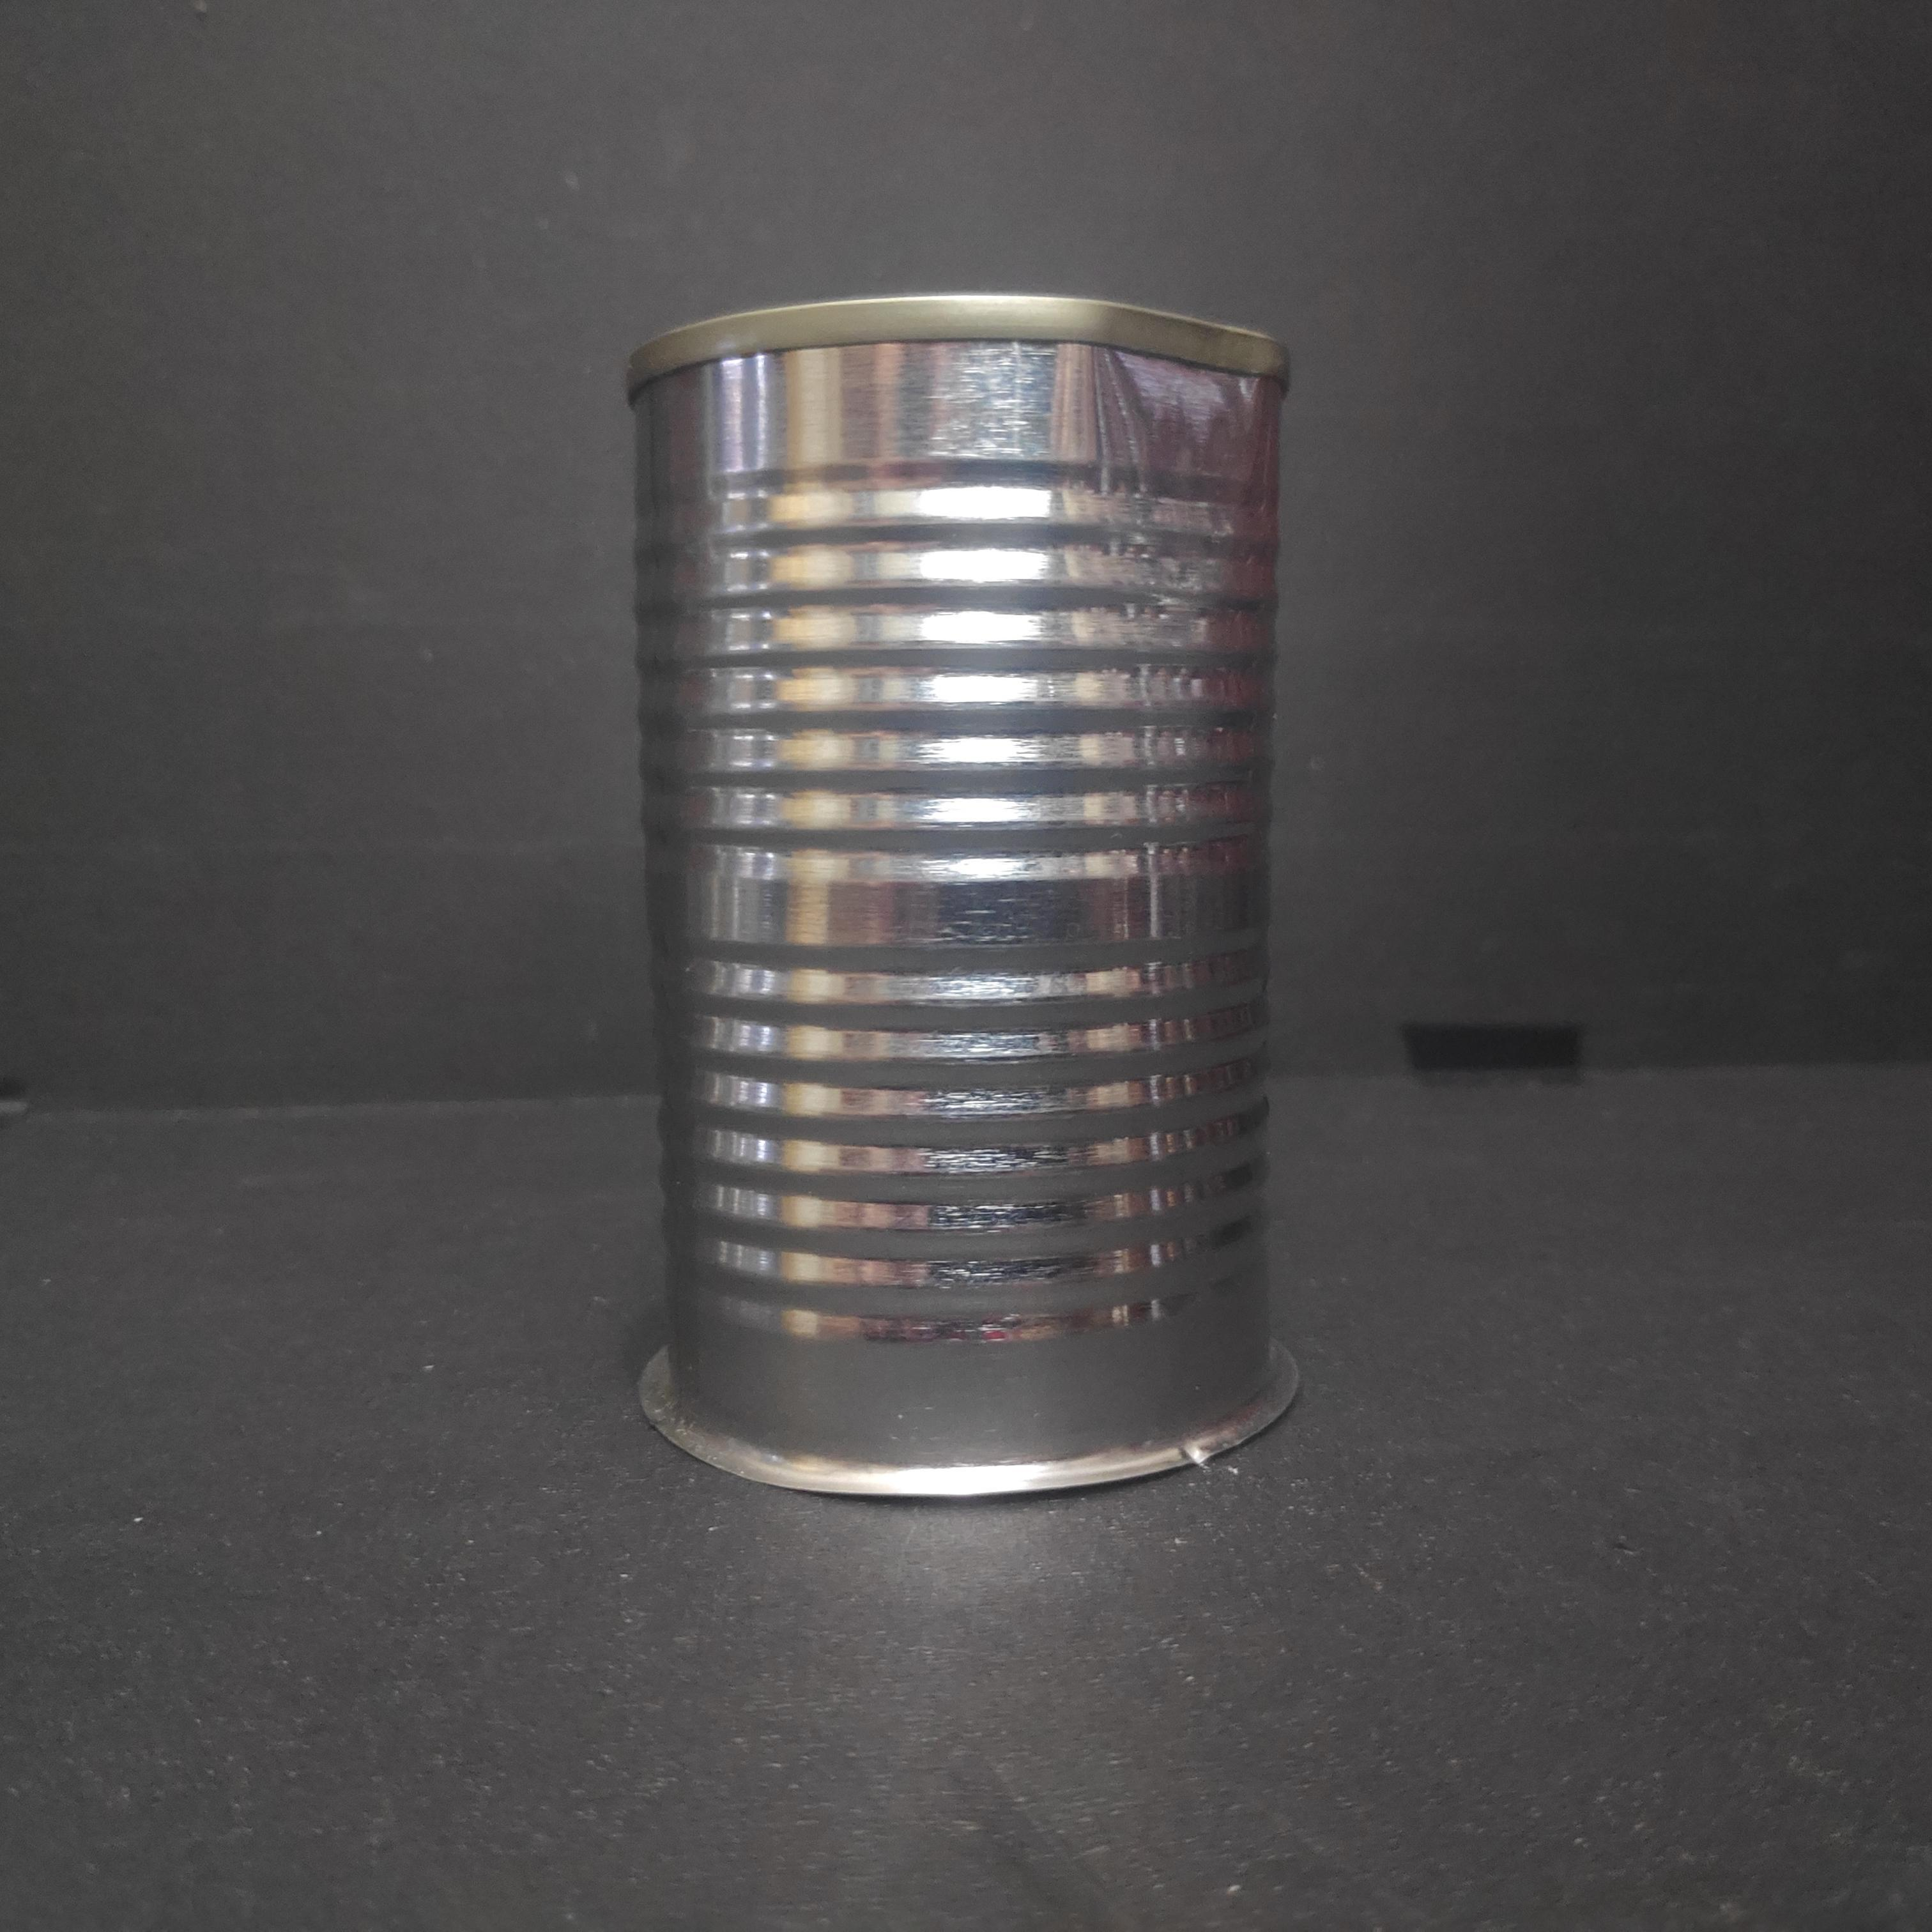Dented: (614, 262, 1320, 1504)
